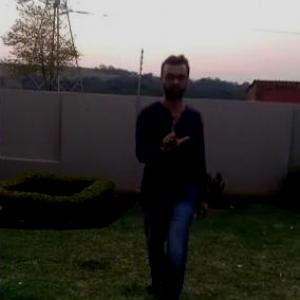land_hand: (155, 116, 189, 155)
